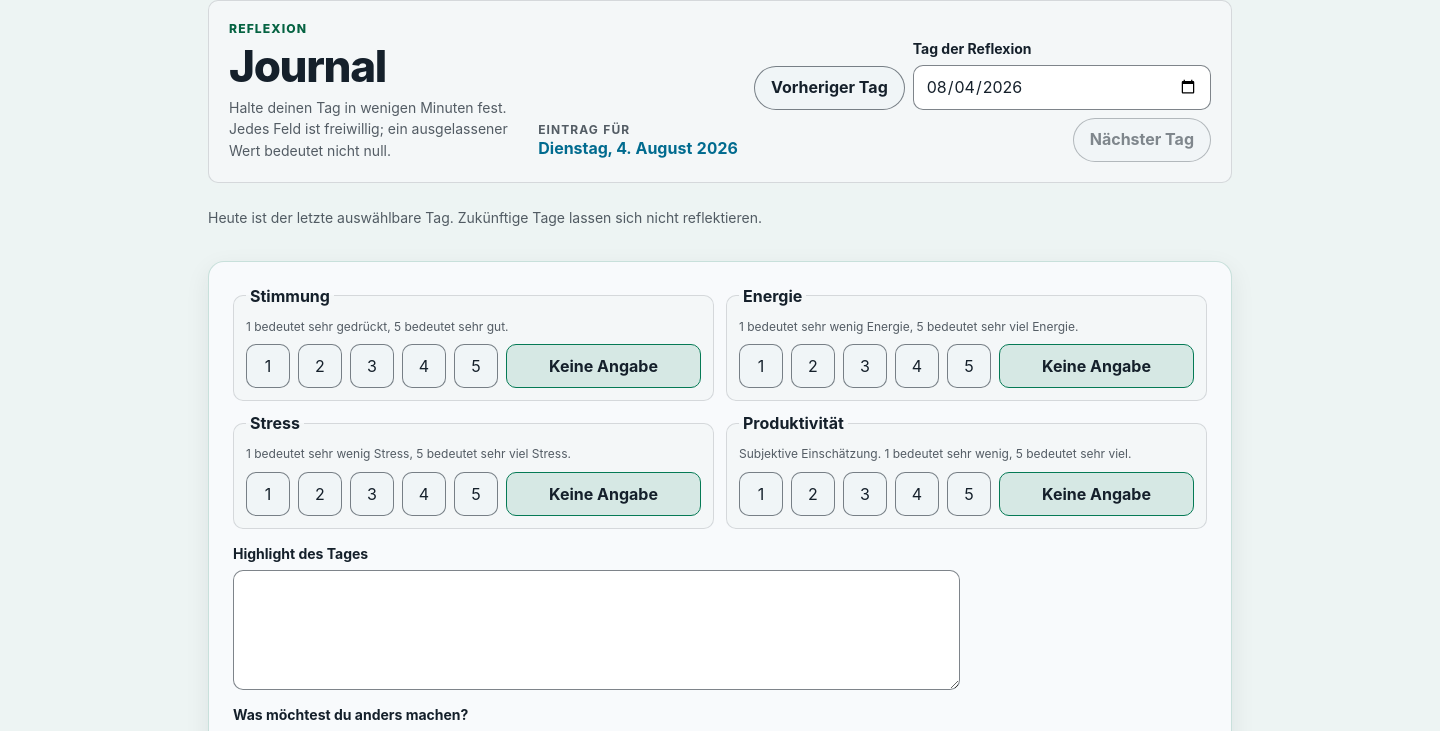
Test: JournalPage › saves a short reflection and shows the stored state
Expected: the radio button labelled "Keine Angabe" below "Stimmung" is checked, [506,344,701,388]
Click the radio button named "4 von 5": (424, 366) [402,344,446,388]
(page scrolled)
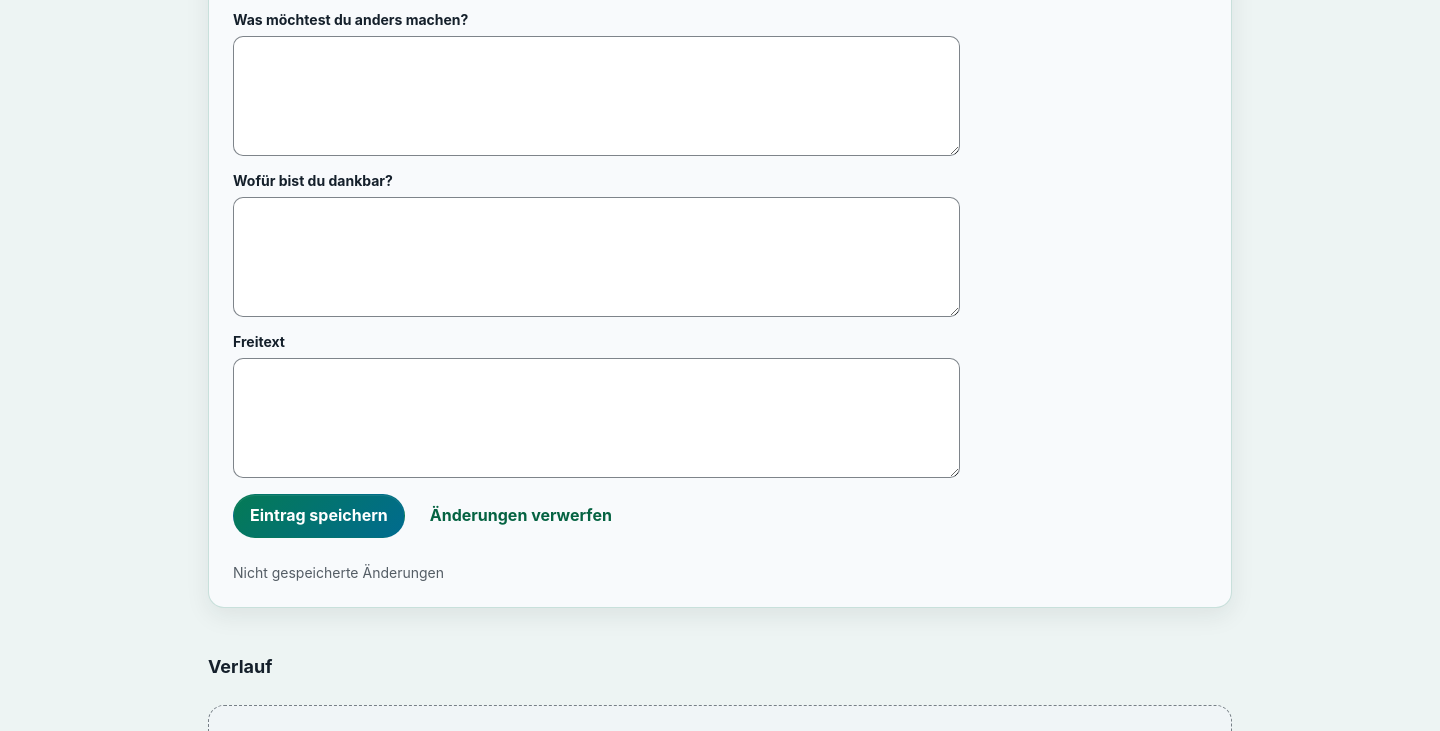
Result: the text "Nicht gespeicherte Änderungen" is shown at [233,564,444,581]
Click the button "Eintrag speichern": (319, 516) [233,494,405,538]
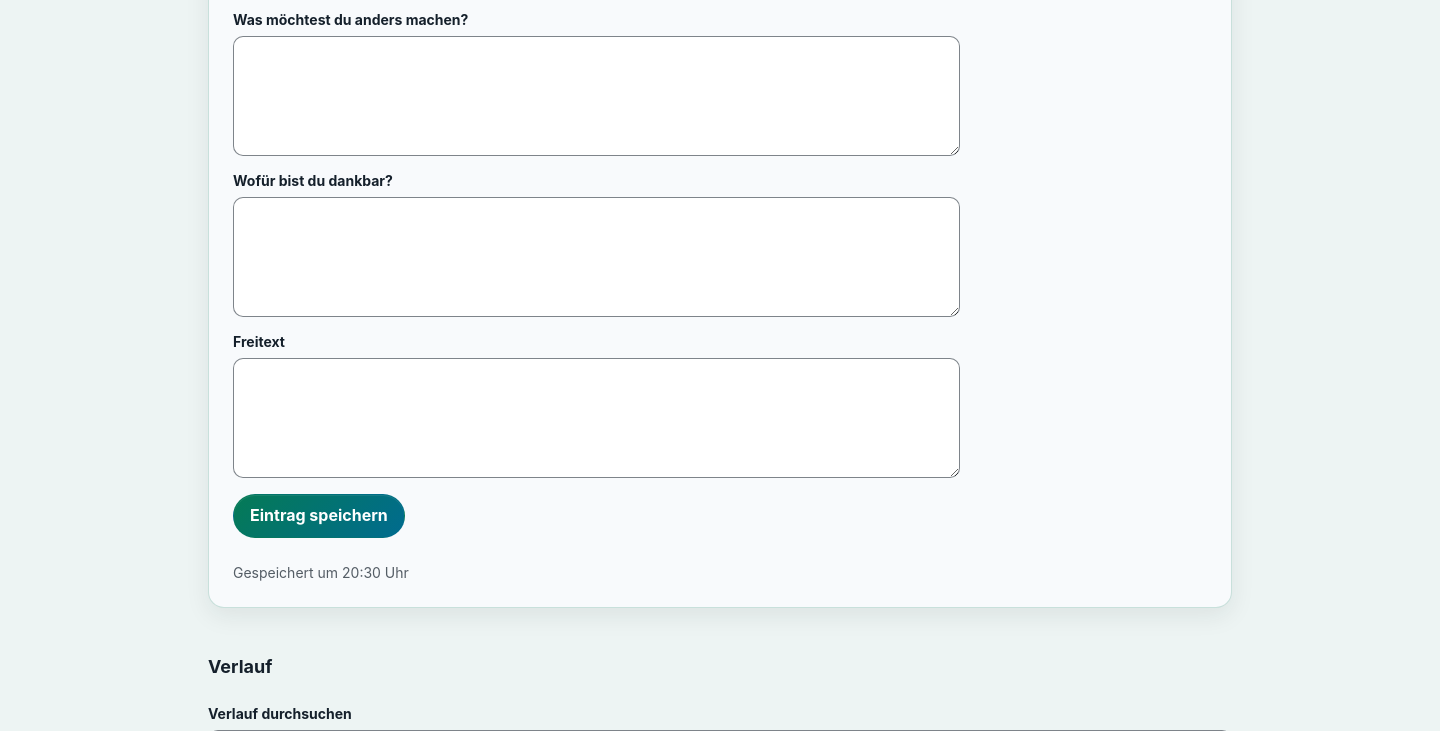
Result: the text "Gespeichert um 20:30 Uhr" is shown at [233,564,409,581]
